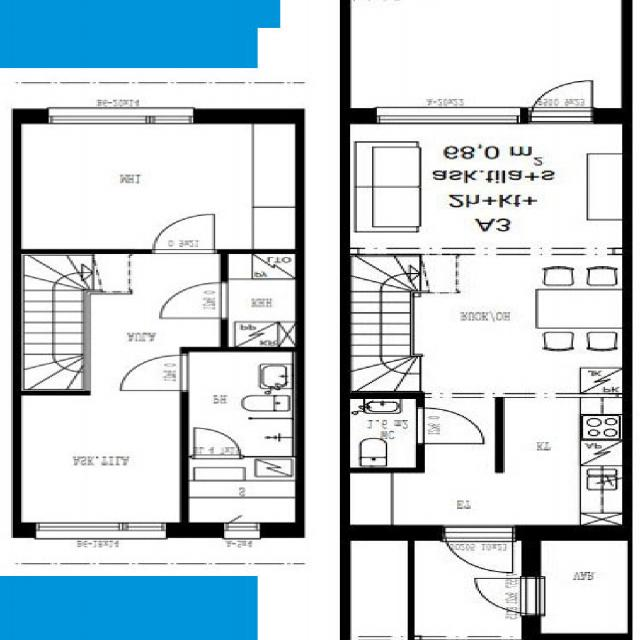door: (446, 525, 513, 580), (532, 72, 593, 124), (464, 578, 542, 613), (161, 282, 229, 318), (156, 214, 216, 254), (416, 408, 484, 443), (121, 355, 189, 390), (195, 427, 241, 460)
